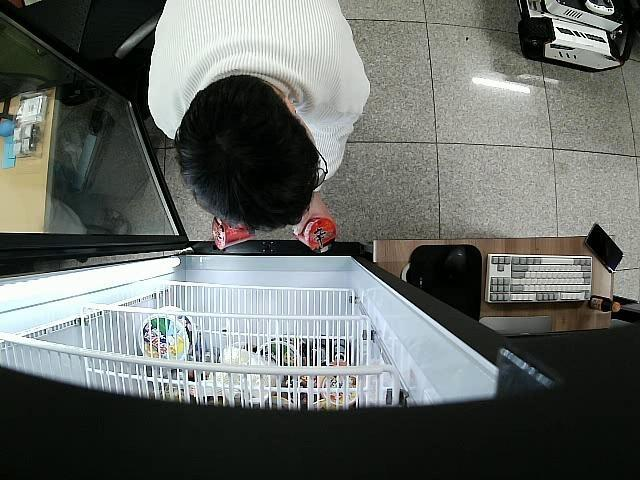02_shinRamen_S: (292, 218, 336, 256)
